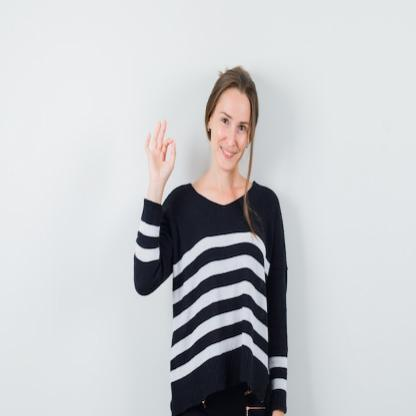ok: (141, 116, 176, 192)
